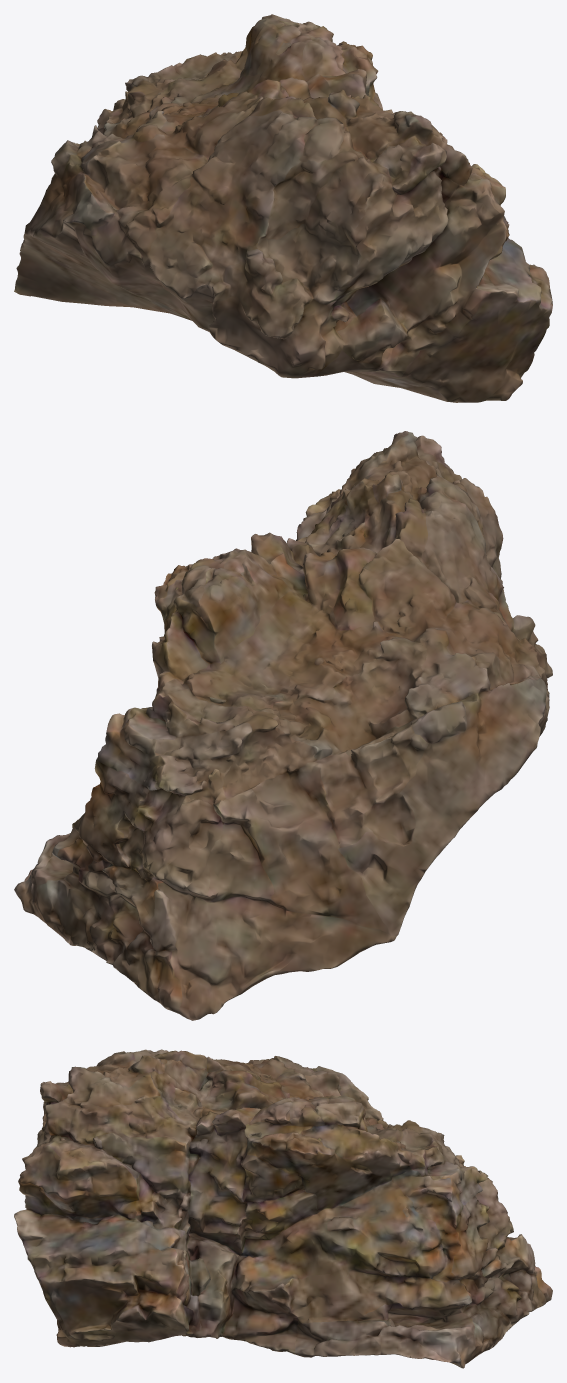
Rendered from boulder_01_lod1.glb.
3 views of the same model, one above another, from view 1: azimuth 30°, elevation 25°; view 2: azimuth 150°, elevation 25°; view 3: azimuth 270°, elevation 25° (orthographic). The views are drawn at different scales.
Parts seen in each view (by area): view 1: boulder_01; view 2: boulder_01; view 3: boulder_01.
Boxes of the visible parts, left/top/right/bottom form: boulder_01: left=14, top=14, right=552, bottom=402; boulder_01: left=14, top=431, right=552, bottom=1020; boulder_01: left=14, top=1049, right=552, bottom=1368.
Size of the model in its own units: 1.27 by 1 by 1.83.
1 material, 1 textured.
